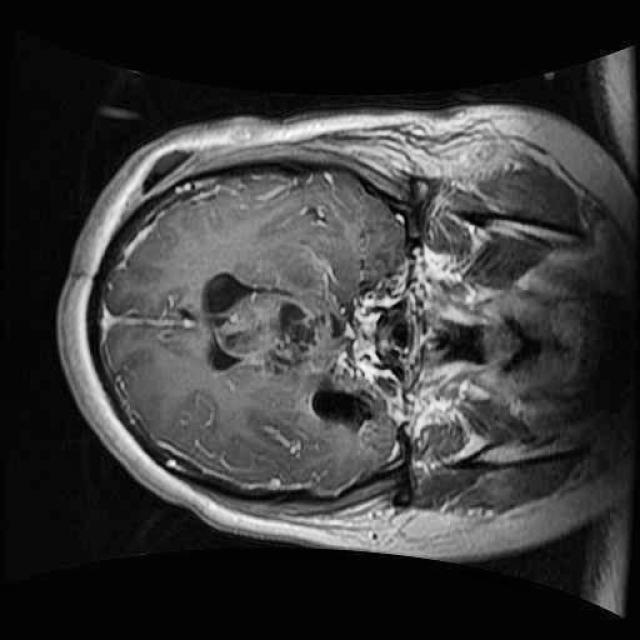Non-Tumor: (203, 275, 414, 470)
